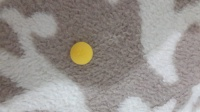Nurofen: (69, 41, 94, 66)
